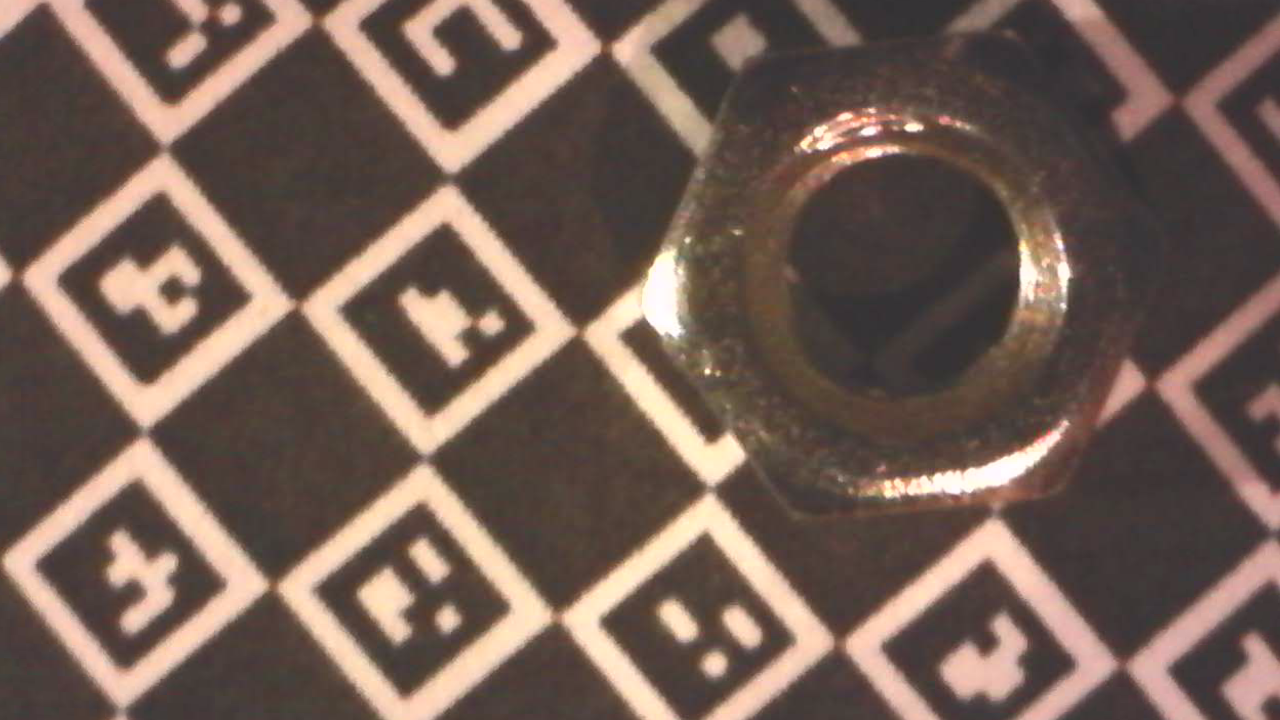Bolt: (634, 33, 1173, 531)
